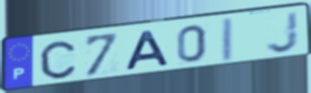0: (175, 23, 211, 65)
7: (84, 31, 122, 79)
A: (124, 29, 172, 72)
C: (38, 39, 78, 80)
I: (219, 15, 236, 64)
J: (264, 10, 300, 55)
